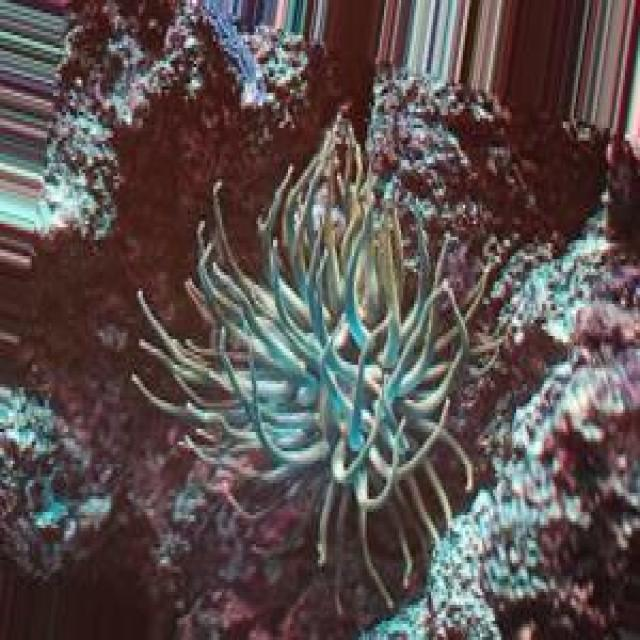Bleached: (148, 183, 468, 535)
